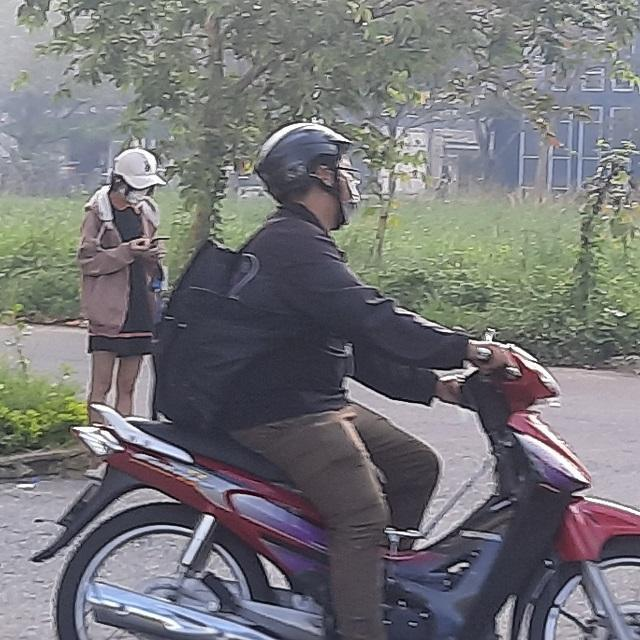Helmet: (255, 119, 367, 229)
